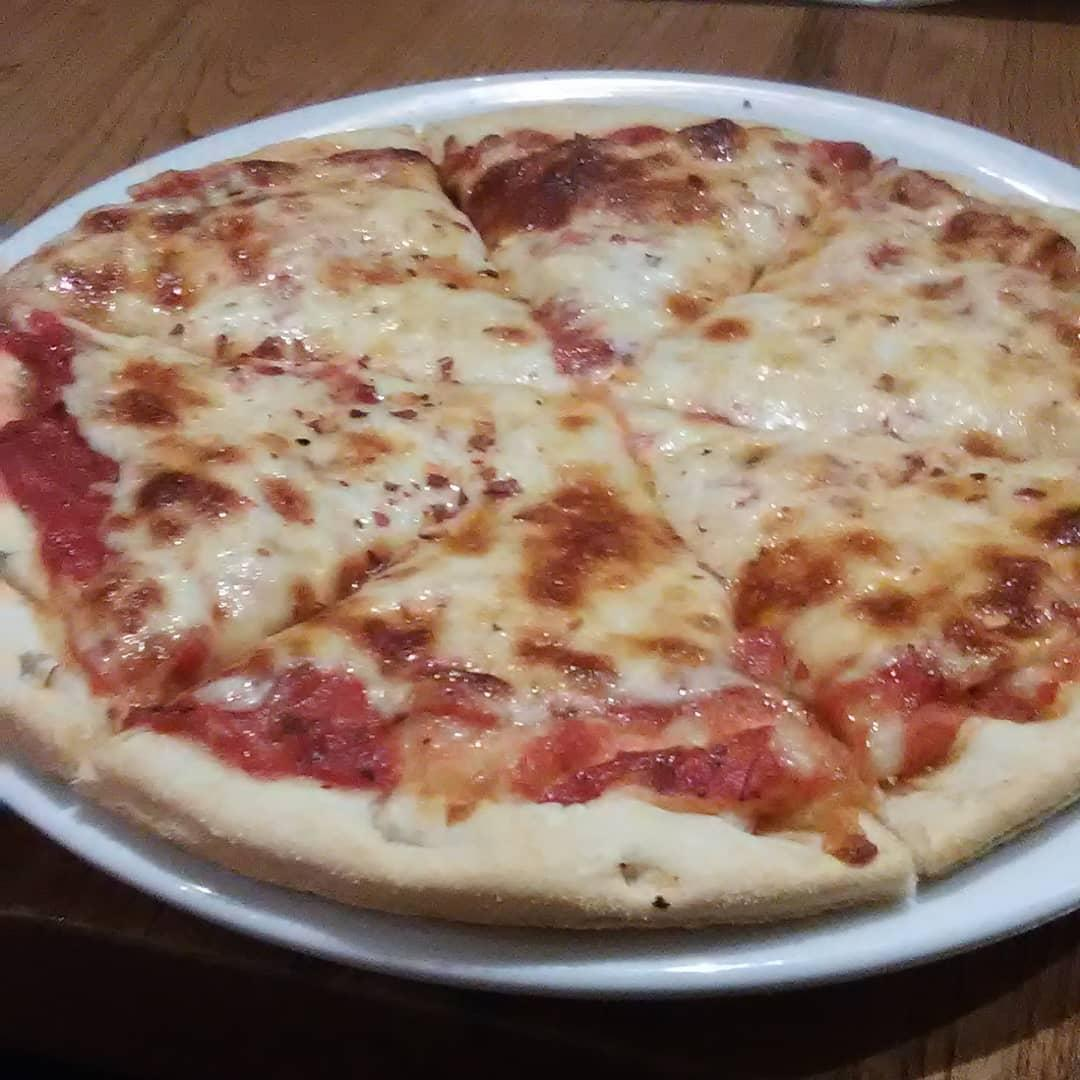Pizza: (1, 108, 1080, 936)
